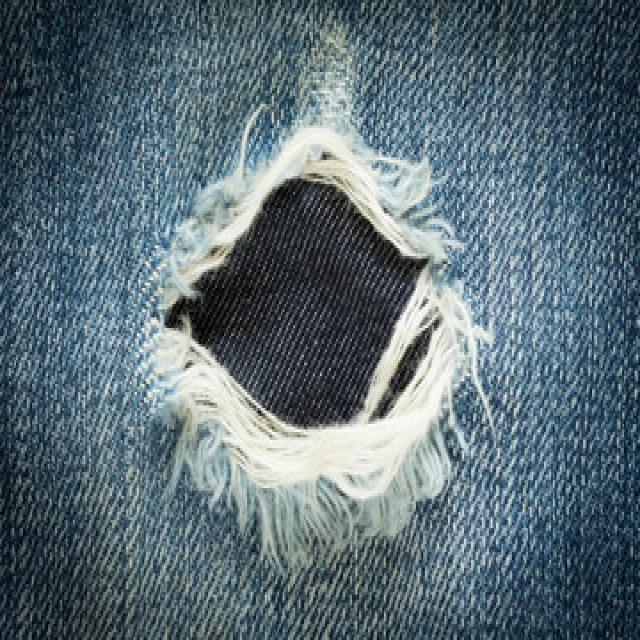Hole: (158, 126, 488, 566)
